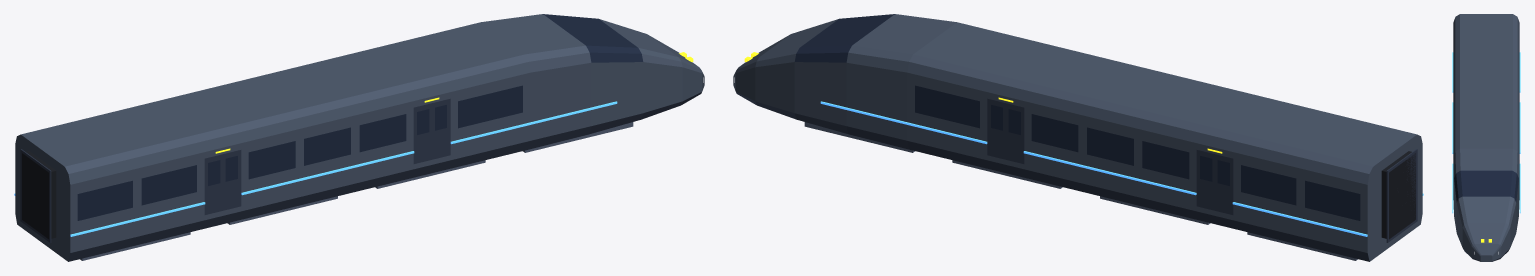
The model's file is rail_maglev_head.glb.
3 views of the same model, side by side, from view 1: azimuth 30°, elevation 25°; view 2: azimuth 150°, elevation 25°; view 3: azimuth 270°, elevation 25° (orthographic). The views are drawn at different scales.
Visible parts, largest first — view 1: body, windows, underbody, gangway_bellows, led_stripe, skids; view 2: body, windows, underbody, gangway_bellows, led_stripe, skids; view 3: body, led_stripe.
Boxes of the visible parts, left/top/right/bottom form: body: left=15, top=14, right=704, bottom=261; windows: left=77, top=85, right=522, bottom=220; underbody: left=20, top=98, right=450, bottom=242; gangway_bellows: left=22, top=151, right=56, bottom=239; led_stripe: left=14, top=101, right=617, bottom=236; skids: left=80, top=122, right=633, bottom=260; body: left=733, top=14, right=1422, bottom=261; windows: left=915, top=85, right=1360, bottom=220; underbody: left=987, top=98, right=1417, bottom=242; gangway_bellows: left=1381, top=151, right=1415, bottom=239; led_stripe: left=820, top=101, right=1423, bottom=236; skids: left=804, top=122, right=1357, bottom=260; body: left=1453, top=14, right=1519, bottom=261; led_stripe: left=1452, top=52, right=1520, bottom=213.
Bounding box in the file's own units: 27 × 4.1 × 4.
